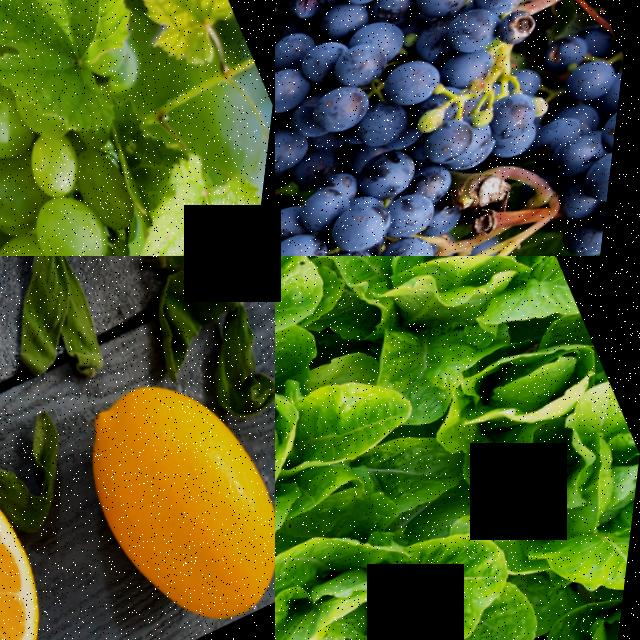grapes: (275, 0, 566, 256), (0, 0, 194, 256), (275, 124, 537, 256), (505, 39, 630, 256)
lemon: (50, 334, 275, 640), (0, 428, 114, 640)
lettuce: (416, 307, 640, 635), (275, 282, 447, 622), (275, 456, 560, 640), (278, 256, 595, 414)
